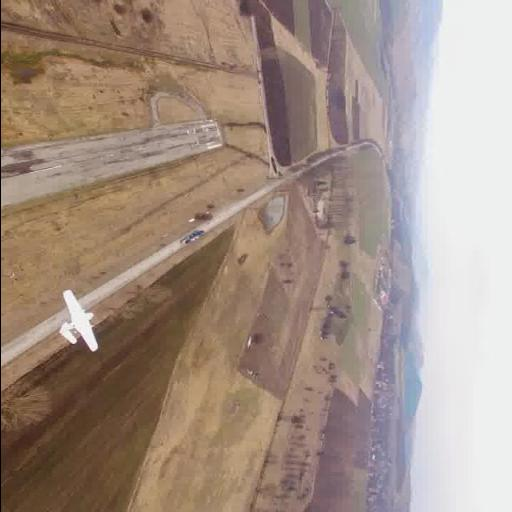uav: (48, 284, 110, 356)
